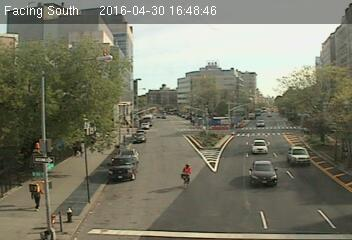neg: (240, 90, 277, 139), (61, 59, 97, 107), (257, 153, 293, 200), (286, 88, 314, 125), (102, 195, 129, 231), (210, 198, 237, 233), (76, 124, 102, 158), (173, 160, 197, 192), (111, 141, 135, 173), (10, 46, 32, 76), (142, 39, 164, 68), (34, 139, 55, 168), (133, 95, 154, 124), (193, 81, 214, 110), (62, 205, 77, 225)
pos: (25, 183, 48, 213)
